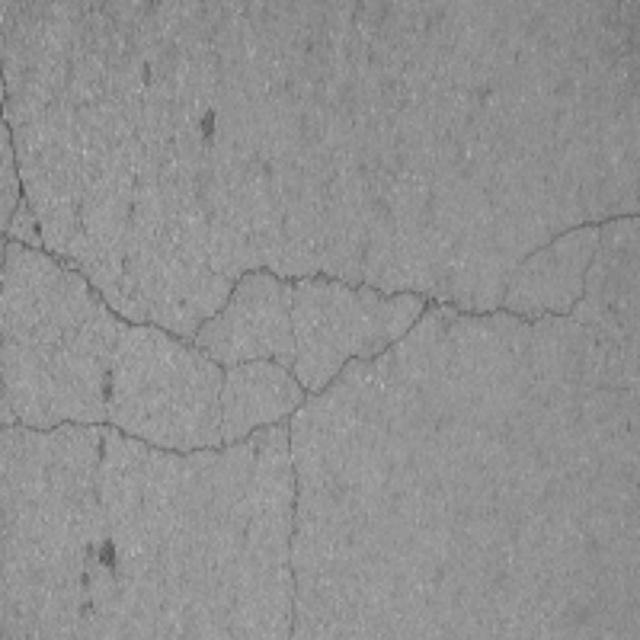Crack: (3, 136, 640, 481)
